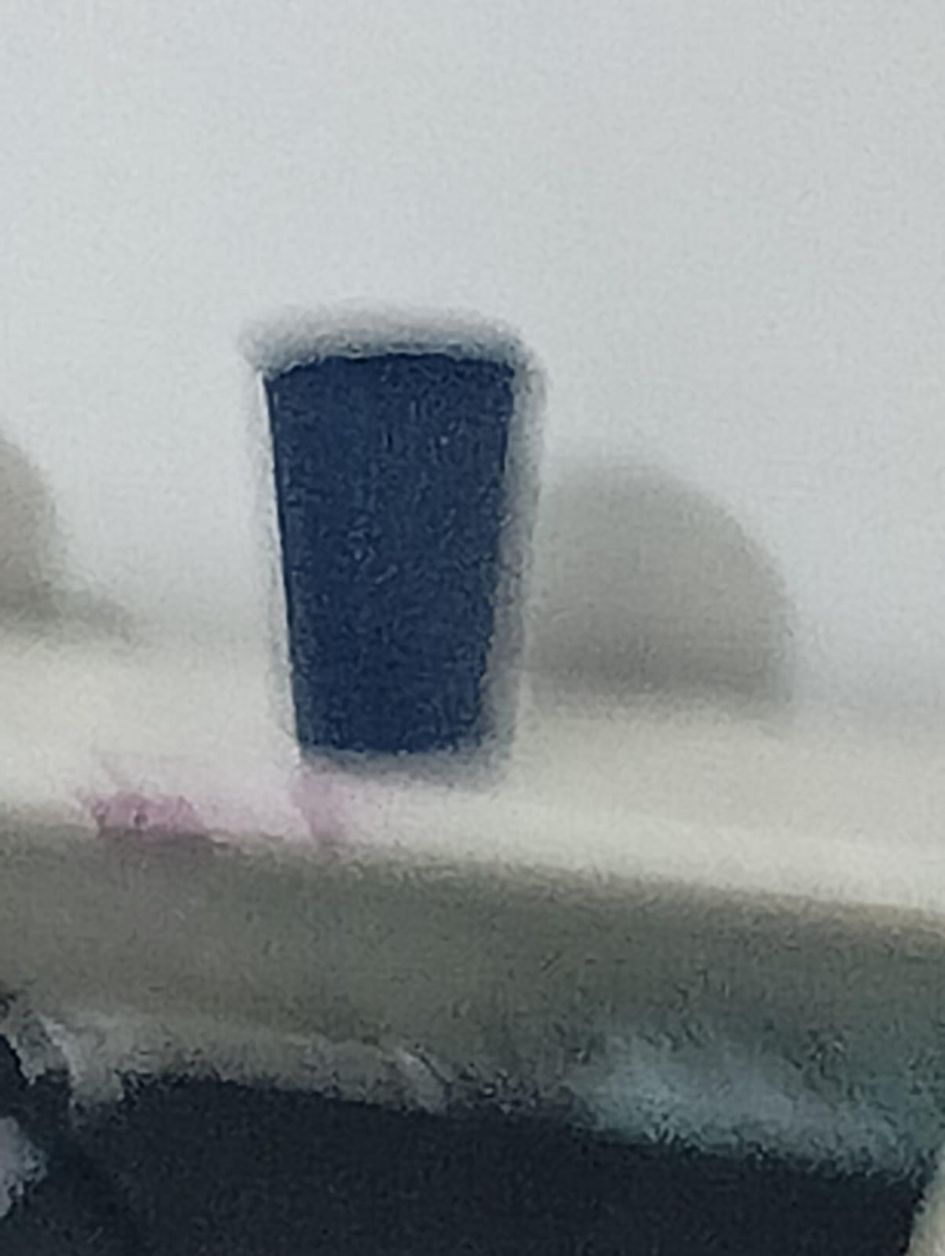cup: (252, 318, 539, 761)
